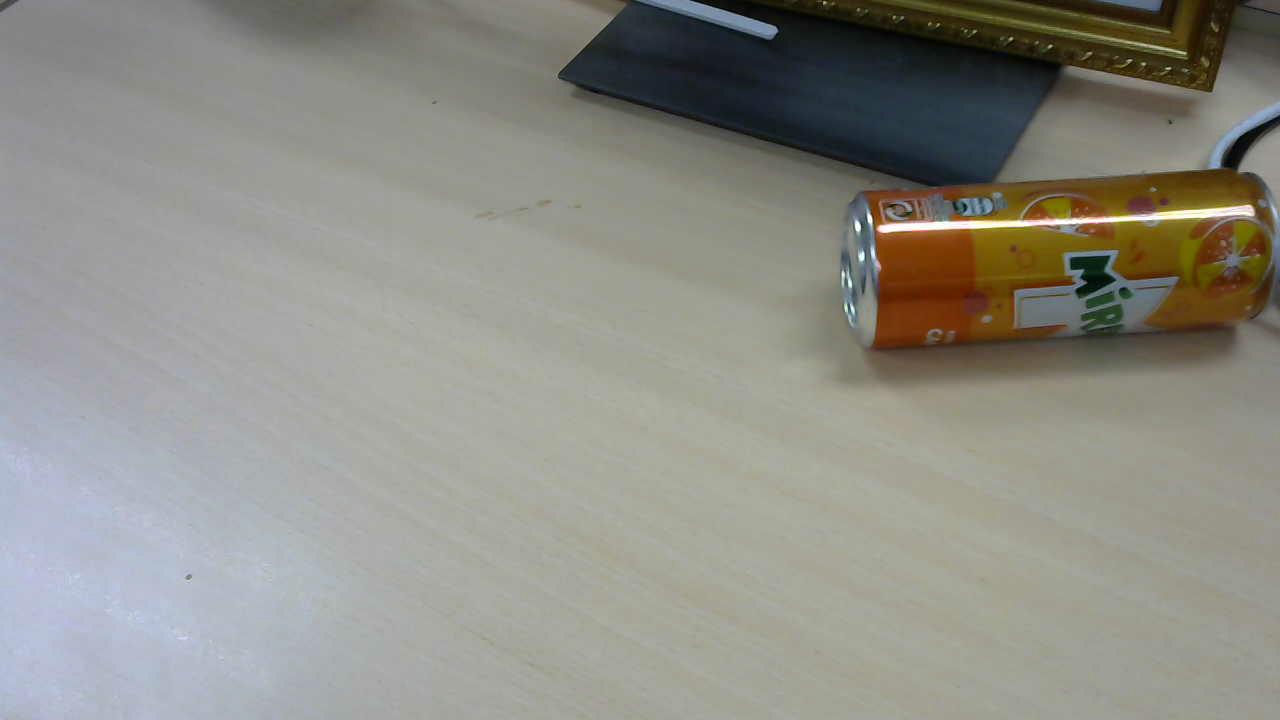Mirinda: (852, 176, 1280, 353)
